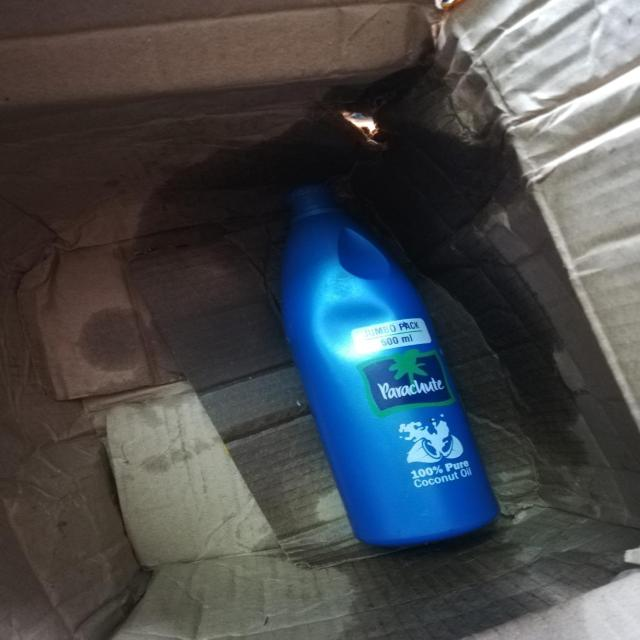parachute_oil: (255, 178, 517, 554)
